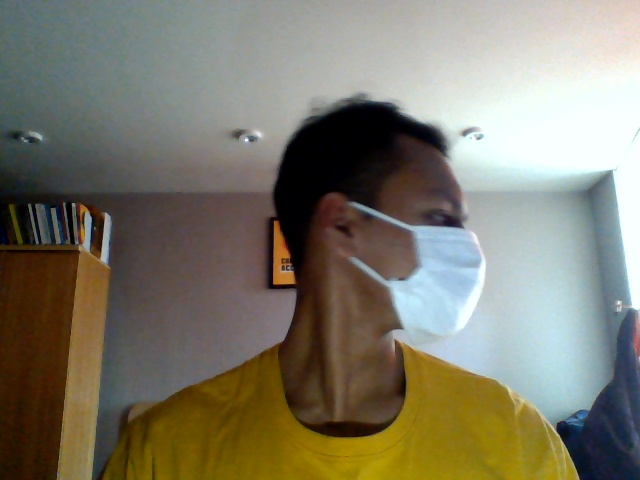mask: (397, 222, 486, 347)
